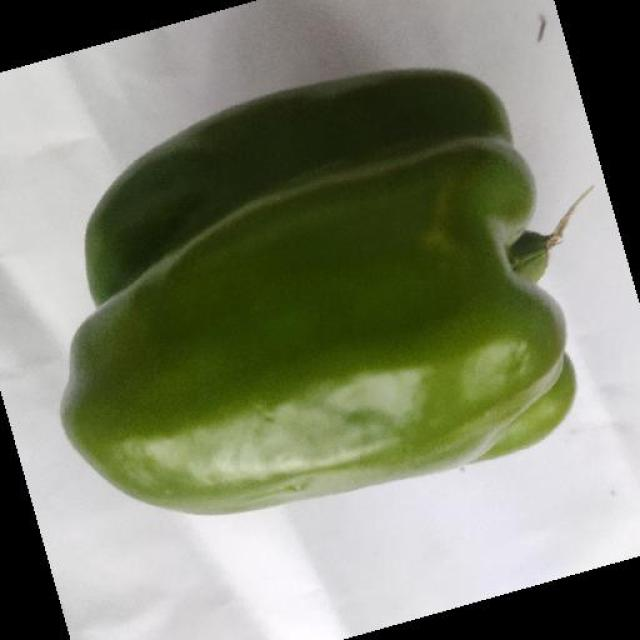Fresh_Capsicum: (116, 138, 596, 484)
